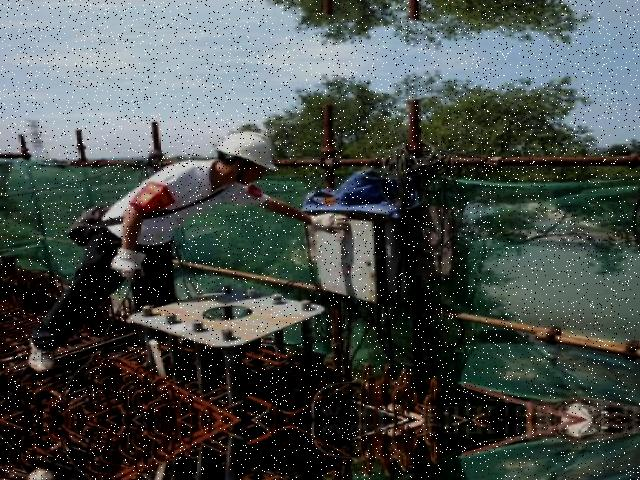Helmet: (205, 126, 283, 178)
